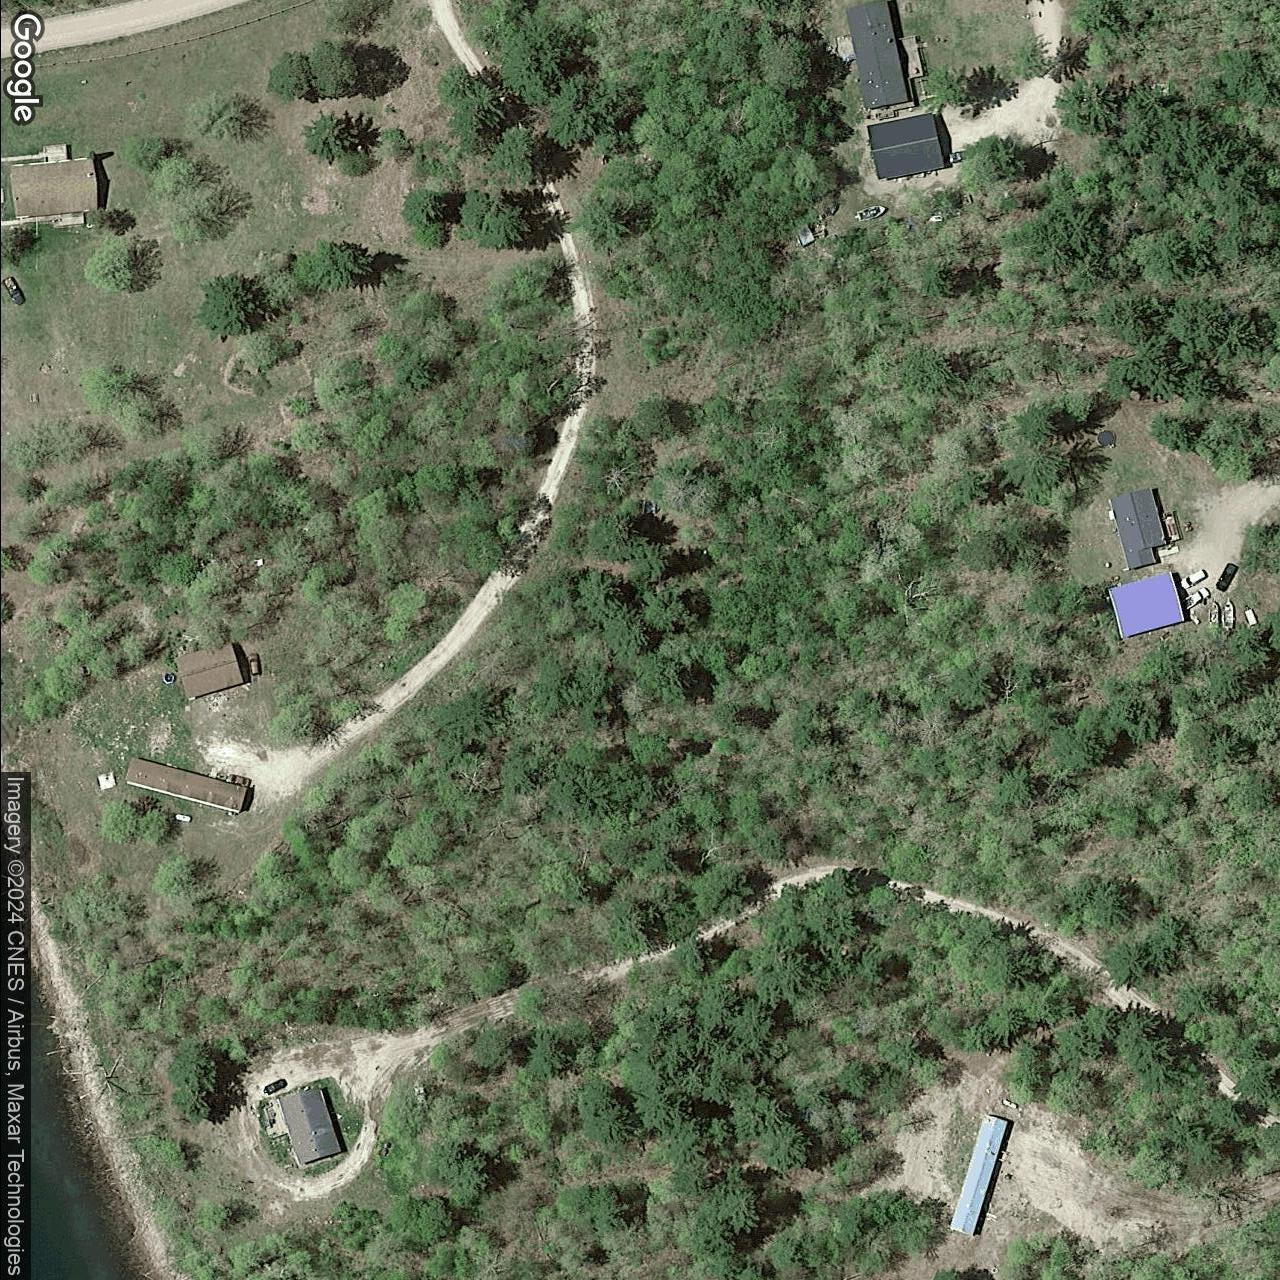Garage: (865, 110, 945, 182), (1105, 571, 1185, 641)
House: (843, 0, 910, 111), (7, 156, 97, 219), (275, 1085, 343, 1165), (1107, 486, 1165, 572), (172, 638, 244, 701)
Propane: (172, 809, 197, 825), (999, 1095, 1020, 1112)
Trailer: (945, 1110, 1009, 1239), (122, 756, 247, 816)
